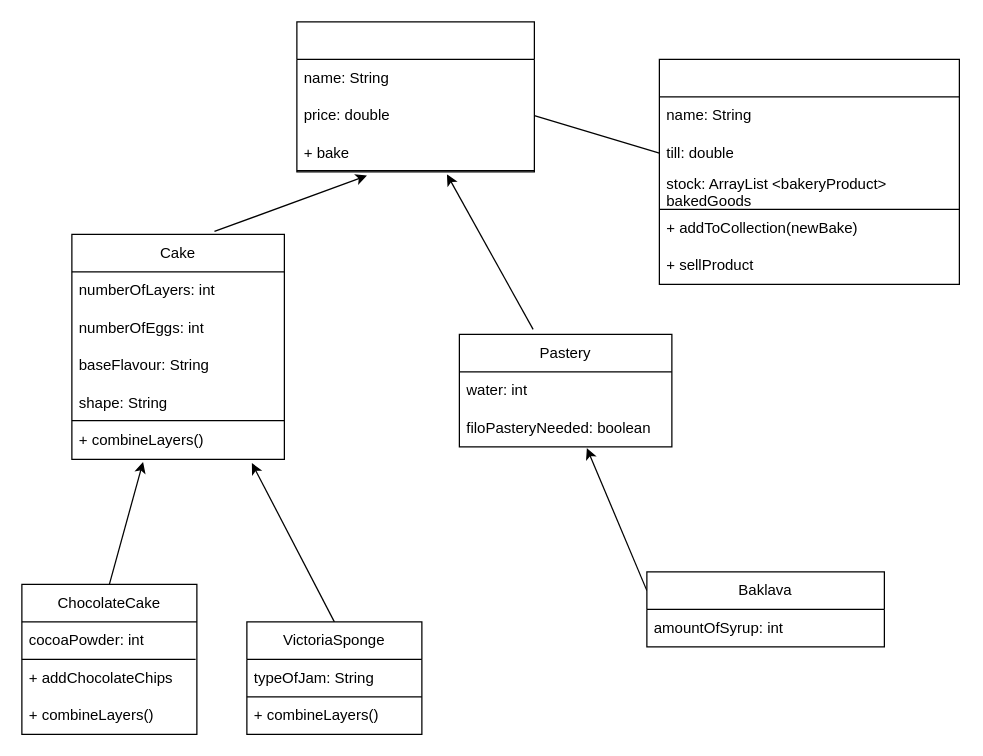
Image size: 983x756. Some labels were removed from this diagram. Each missing label, with the box of its shape:
<<BakeryProduct>>: (296, 21, 534, 172)
Cafe: (658, 58, 959, 284)
